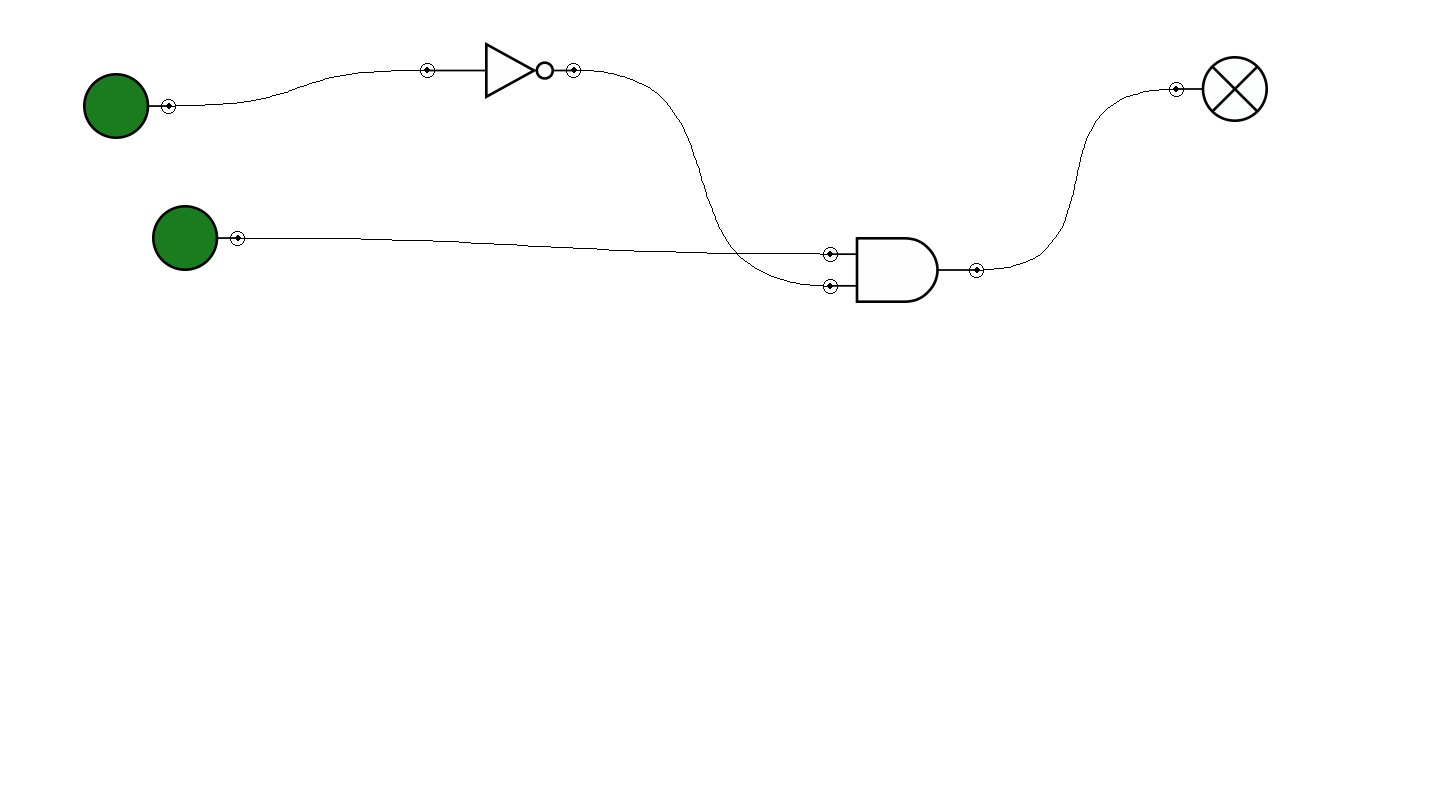and: (823, 237, 984, 303)
bulb: (1169, 56, 1268, 122)
not: (420, 42, 581, 99)
switch_True: (83, 73, 176, 139), (152, 205, 245, 271)
